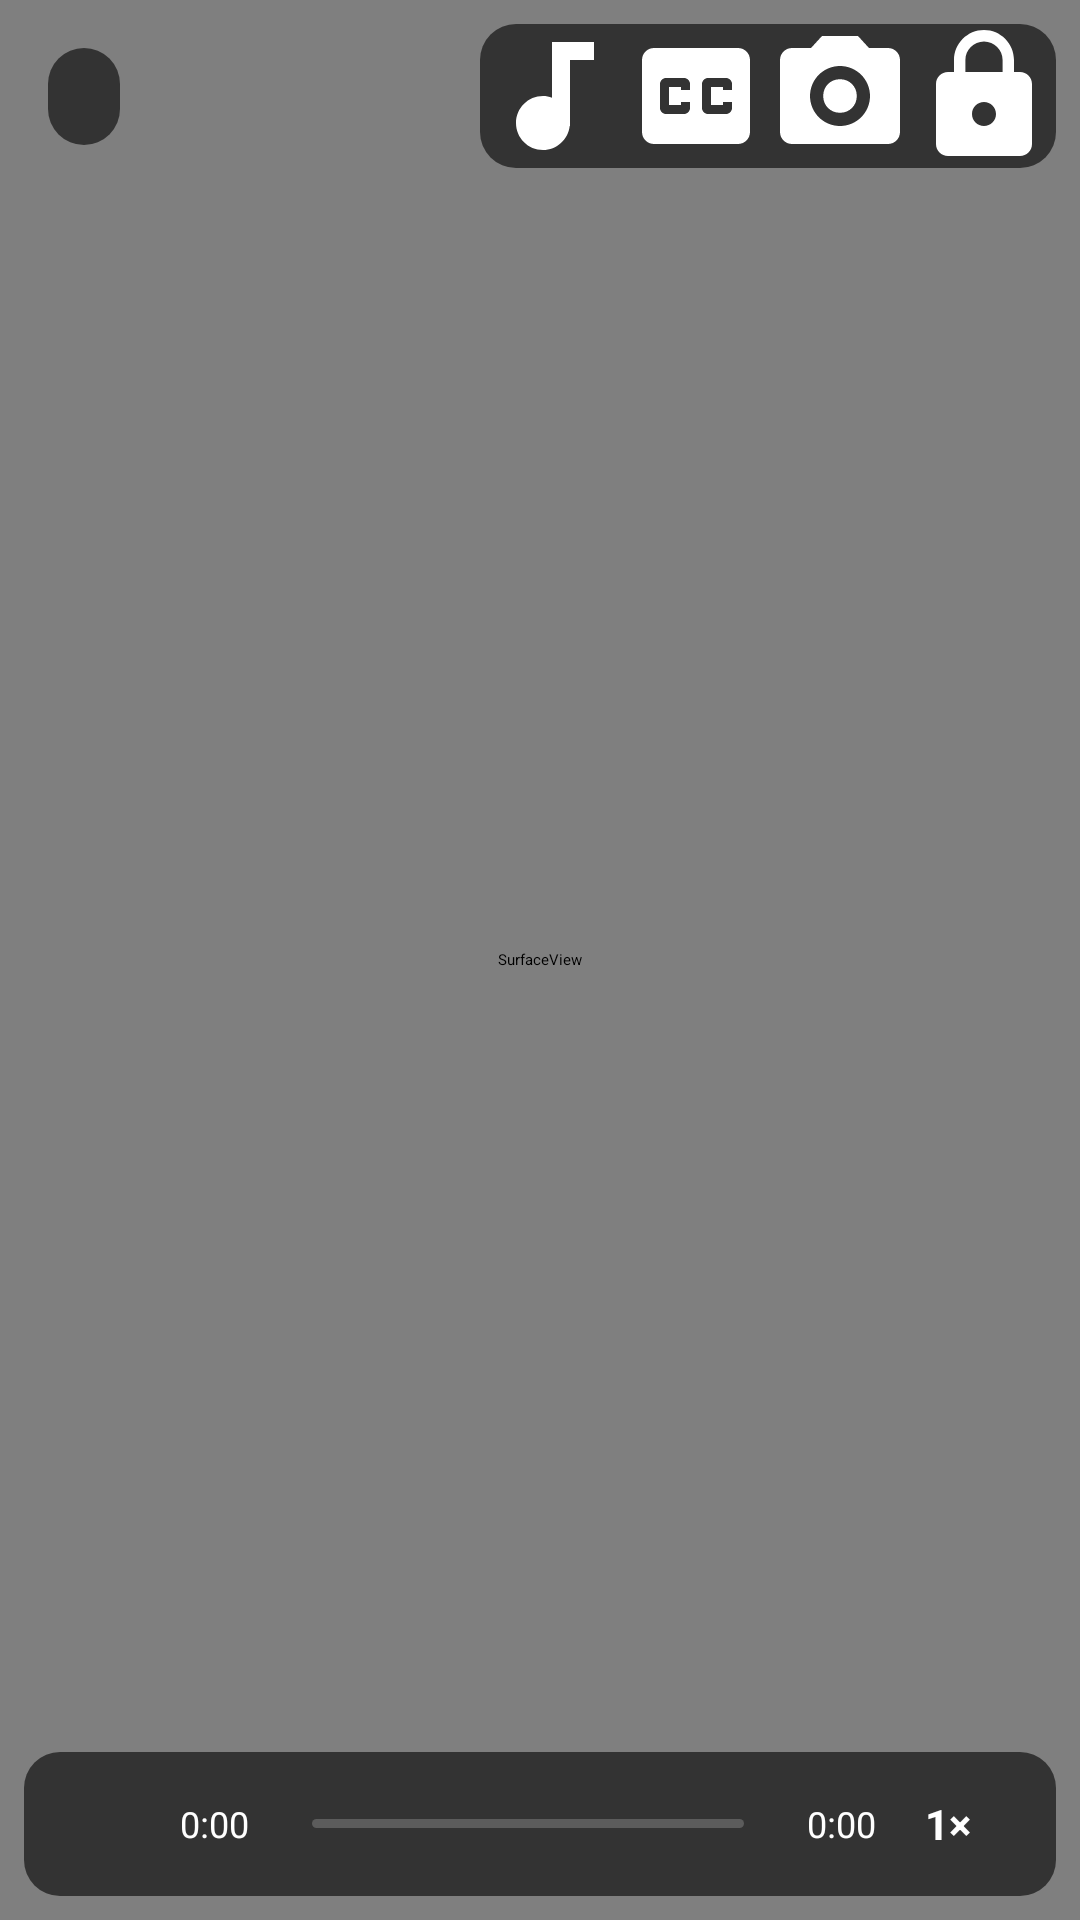

Icon bounding boxes for this 1080px x 1920px phone screenshot, format (x1, y1, x2, y2):
Audio track: (480, 24, 624, 168)
Lock controls: (912, 24, 1056, 168)
Screenshot: (780, 36, 900, 144)
Subtitles: (642, 48, 750, 144)
